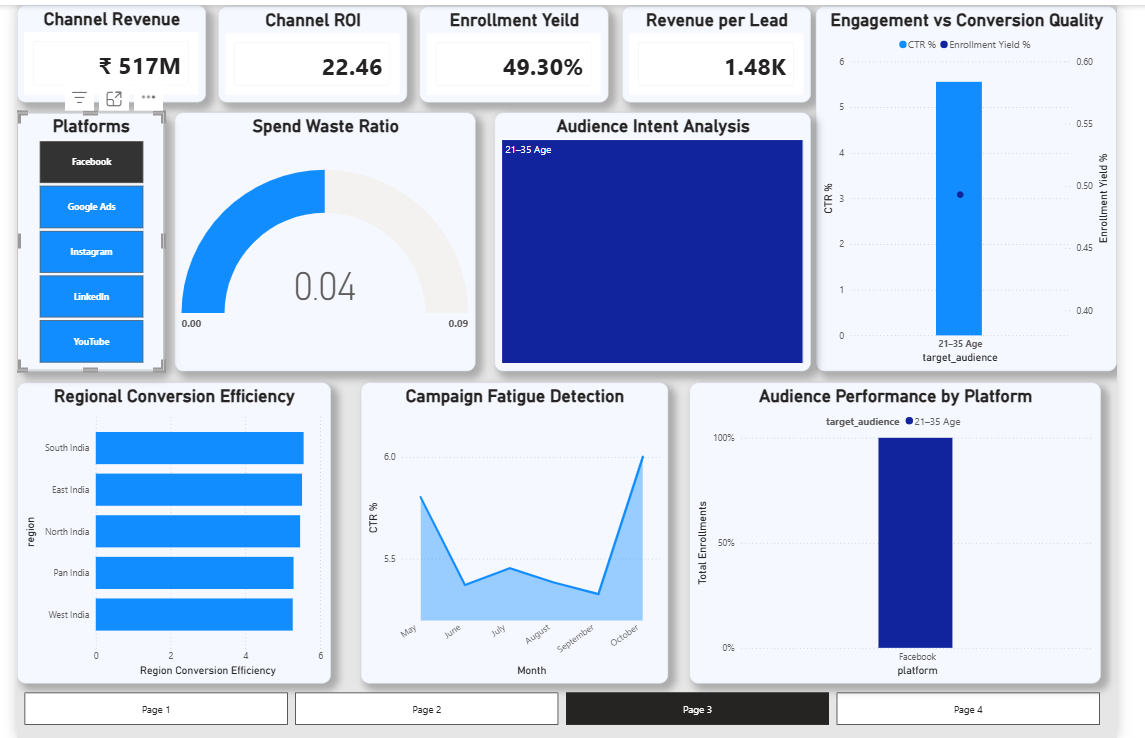

Layout of this report page (visuals, bound fields, positions):
{"tool":"powerbi","page":{"name":"Page 3","canvas":[1500,1000],"ordinal":2},"visuals":[{"type":"cardVisual","title":"Channel Revenue","fields":{"Data":["campaign_performance_clean.Total Revenue"]},"box":[0,0,257.3,132.9],"z":0},{"type":"cardVisual","title":"Channel ROI","fields":{"Data":["campaign_performance_clean.ROI %"]},"box":[274.4,1.7,257.3,131.2],"z":1000},{"type":"cardVisual","title":"Enrollment Yeild","fields":{"Data":["campaign_performance_clean.Enrollment Yield %"]},"box":[548.7,1.7,257.3,131.2],"z":2000},{"type":"cardVisual","title":"Revenue per Lead","fields":{"Data":["Conversion_Stages.Lead Revenue Efficiency"]},"box":[824.8,1.7,257.3,131.2],"z":3000},{"type":"lineClusteredColumnComboChart","title":"Engagement vs Conversion Quality","fields":{"Category":["campaign_performance_clean.target_audience"],"Y":["Conversion_Stages.CTR %"],"Y2":["campaign_performance_clean.Enrollment Yield %"]},"box":[1089,1.7,410.7,497.6],"z":4000},{"type":"treemap","title":"Audience Intent Analysis","fields":{"Group":["campaign_performance_clean.target_audience"],"Values":["Conversion_Stages.Audience Intent Score"]},"box":[651,146.6,431.2,352.8],"z":5000},{"type":"gauge","fields":{"Y":["Conversion_Stages.Spend Waste Ratio"]},"box":[214.7,146.6,410.7,352.8],"z":6000},{"type":"areaChart","title":"Campaign Fatigue Detection","fields":{"Category":["campaign_performance_clean.campaign_date.Variation.Date Hierarchy.Month"],"Y":["Conversion_Stages.CTR %"]},"box":[468.6,514.7,419.2,410.7],"z":7000},{"type":"clusteredBarChart","title":"Regional Conversion Efficiency","fields":{"Category":["campaign_performance_clean.region"],"Y":["Conversion_Stages.Region Conversion Efficiency"]},"box":[0,514.7,427.7,410.7],"z":8000},{"type":"pageNavigator","box":[10.2,937.3,1467.3,44.3],"z":9000},{"type":"slicer","title":"Platforms ","fields":{"Values":["campaign_performance_clean.platform"]},"box":[0,146.6,201.1,352.8],"z":10000},{"type":"hundredPercentStackedColumnChart","title":"Audience Performance by Platform","fields":{"Category":["campaign_performance_clean.platform"],"Y":["campaign_performance_clean.Total Enrollments"],"Series":["campaign_performance_clean.target_audience"]},"box":[916.8,514.7,560.7,410.7],"z":11001}]}

Visuals, with their boxes on the page's 1500x1000 design canvas (x1, y1, x2, y2). These are canvas units, not pixel positions in the 1145x738 screenshot, which may show the page scaled, cropped or inside an application window:
"Channel Revenue" cardVisual: (0, 0, 257, 133)
"Channel ROI" cardVisual: (274, 2, 532, 133)
"Enrollment Yeild" cardVisual: (549, 2, 806, 133)
"Revenue per Lead" cardVisual: (825, 2, 1082, 133)
"Engagement vs Conversion Quality" lineClusteredColumnComboChart: (1089, 2, 1500, 499)
"Audience Intent Analysis" treemap: (651, 147, 1082, 499)
gauge - Conversion_Stages.Spend Waste Ratio: (215, 147, 625, 499)
"Campaign Fatigue Detection" areaChart: (469, 515, 888, 925)
"Regional Conversion Efficiency" clusteredBarChart: (0, 515, 428, 925)
pageNavigator: (10, 937, 1478, 982)
"Platforms " slicer: (0, 147, 201, 499)
"Audience Performance by Platform" hundredPercentStackedColumnChart: (917, 515, 1478, 925)
